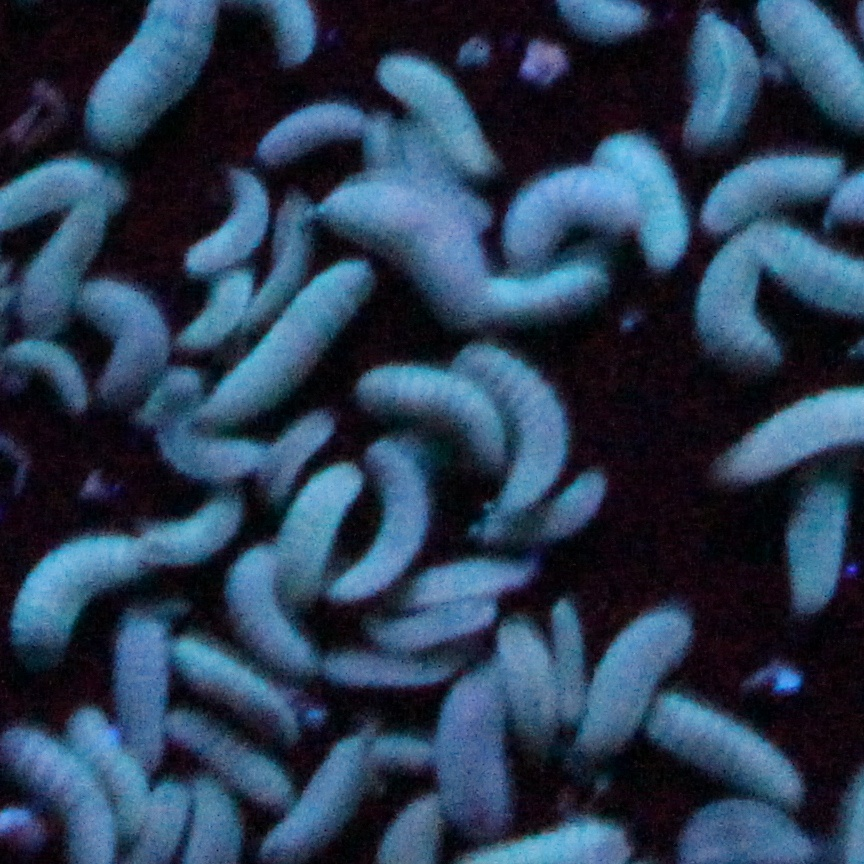larve: (205, 263, 380, 411), (324, 188, 486, 322), (644, 692, 820, 807), (574, 612, 696, 758), (469, 353, 573, 501), (1, 727, 118, 857), (10, 538, 134, 653), (354, 365, 508, 452), (485, 168, 630, 253), (700, 242, 785, 386), (602, 138, 689, 273), (170, 711, 292, 807), (384, 63, 492, 170), (85, 282, 174, 411), (179, 633, 293, 733), (25, 196, 108, 332), (274, 732, 370, 848), (227, 550, 307, 678), (75, 700, 151, 833), (355, 443, 420, 598), (443, 660, 505, 822), (693, 156, 844, 222), (289, 467, 360, 596), (679, 16, 751, 143), (116, 613, 172, 766), (786, 493, 856, 611), (488, 260, 613, 325), (187, 171, 267, 271), (244, 195, 310, 309), (257, 92, 361, 161), (258, 413, 338, 502), (492, 629, 555, 741), (149, 487, 242, 559), (540, 602, 587, 719), (364, 605, 502, 644), (335, 649, 467, 689), (425, 551, 544, 595), (186, 269, 246, 353)
